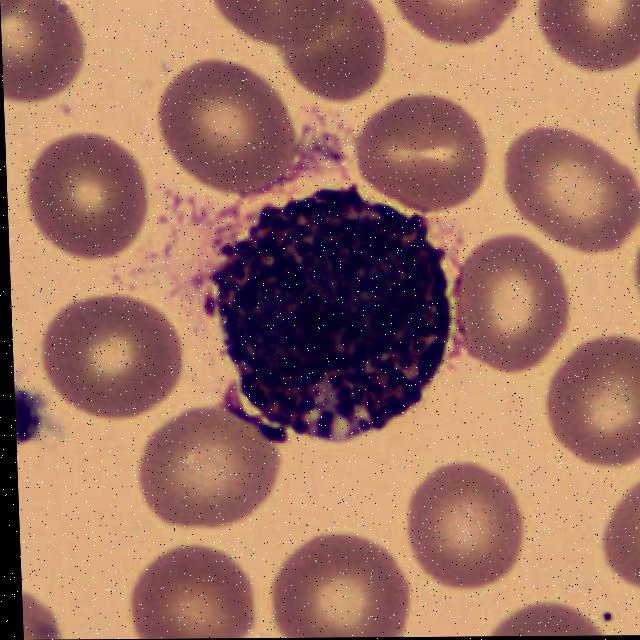basophil: (216, 183, 465, 438)
rbc: (150, 61, 307, 191), (37, 295, 187, 429), (496, 121, 640, 255), (18, 120, 158, 253), (136, 406, 282, 533), (407, 467, 534, 593), (353, 91, 488, 208), (265, 540, 417, 638), (452, 243, 566, 371), (542, 335, 640, 472), (275, 0, 393, 108), (121, 547, 256, 639), (1, 0, 87, 106), (539, 0, 640, 84), (209, 0, 361, 52), (393, 0, 520, 56), (597, 473, 640, 603), (479, 604, 608, 637), (629, 240, 640, 333), (627, 83, 640, 160)
